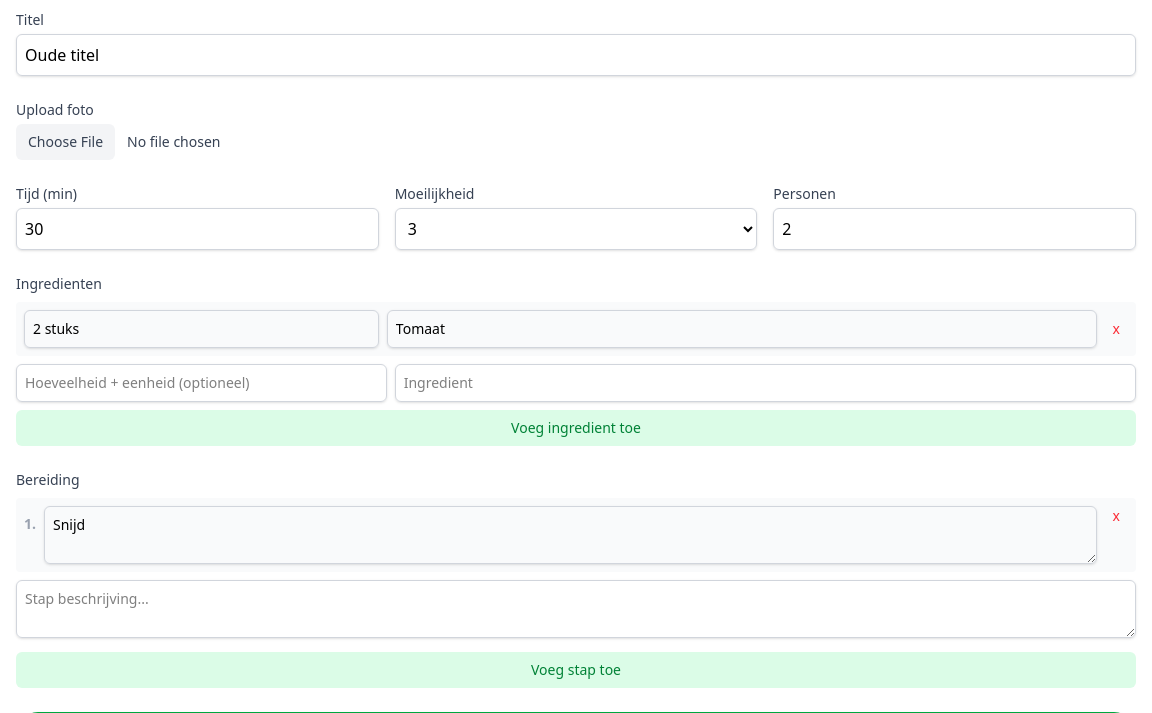
RecipeForm › werkt een bestaand recept bij en toont opslagfouten
The width and height of the screenshot is (1152, 713).
Replace the text in the field labelled "Titel" with "Nieuwe titel" at (576, 55), box [16,34,1136,76]
(page scrolled)
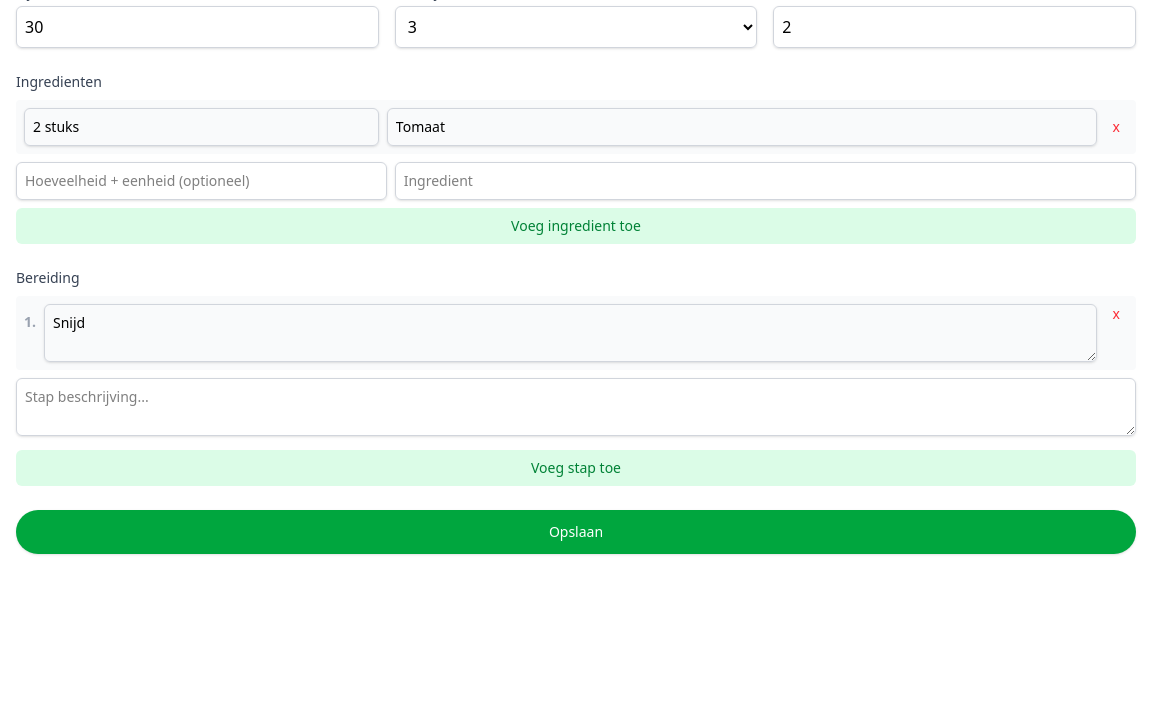
Click the button "Opslaan" at (576, 532), box [16,510,1136,554]
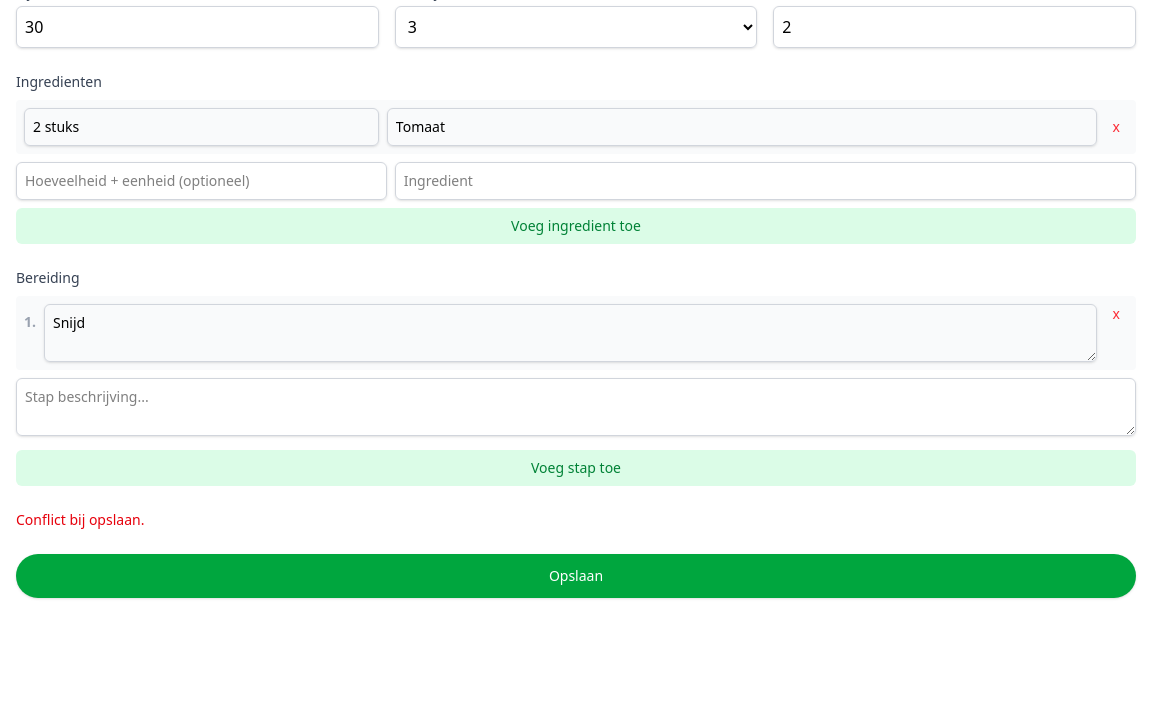
Expected: the text "Conflict bij opslaan." is shown, [16,510,144,529]
